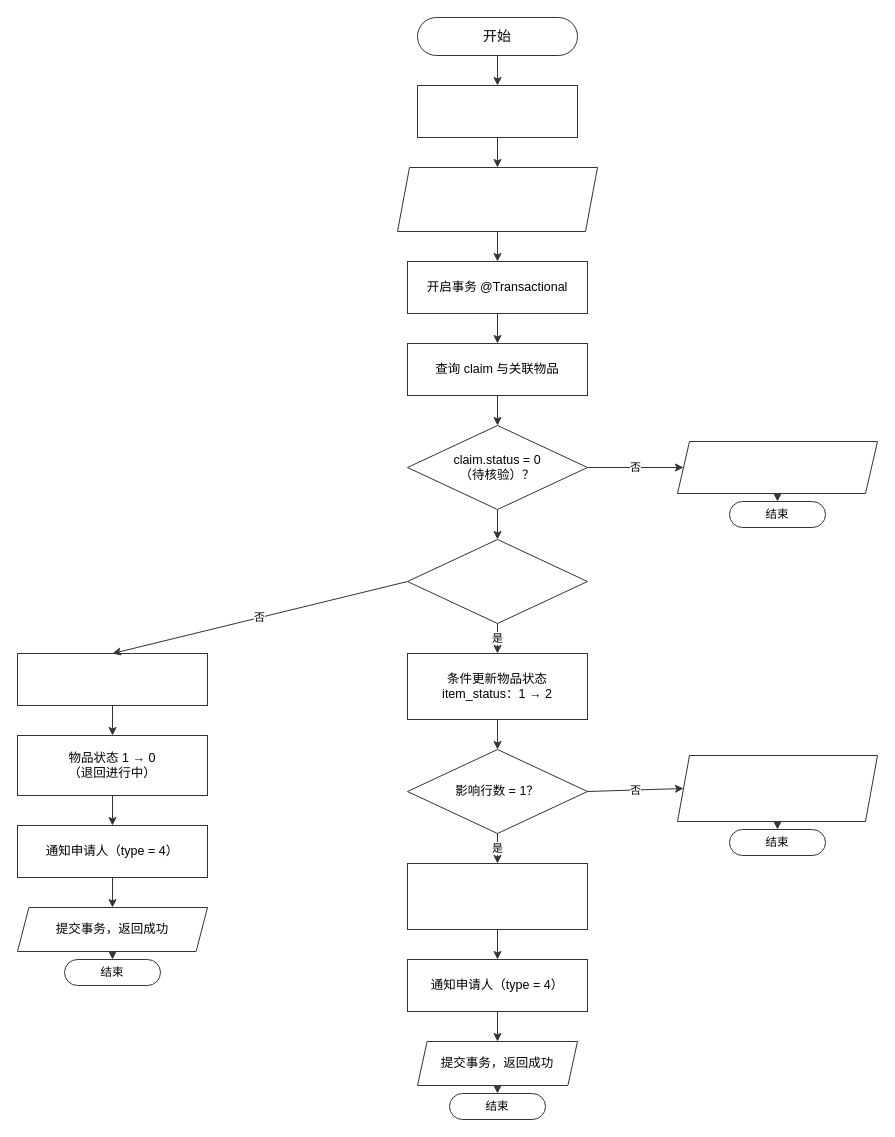
Some shapes in this 895 by 1137 pixel diagram are drawn without their labels. Each missing label, with the centre of its shape:
"action = approve？" goes at point (497, 581).
"回滚事务， 返回 2003：状态不允许" goes at point (777, 788).
"接收 claimId、action (approve/reject)、reply" goes at point (497, 199).
"更新 claim.status = 1， 写入 admin_id 与 reply" goes at point (497, 896).
"更新 claim.status = 2" goes at point (112, 679).
"管理员角色校验 role = 1" goes at point (497, 111).
"返回 3002：该申请已处理" goes at point (777, 467).
